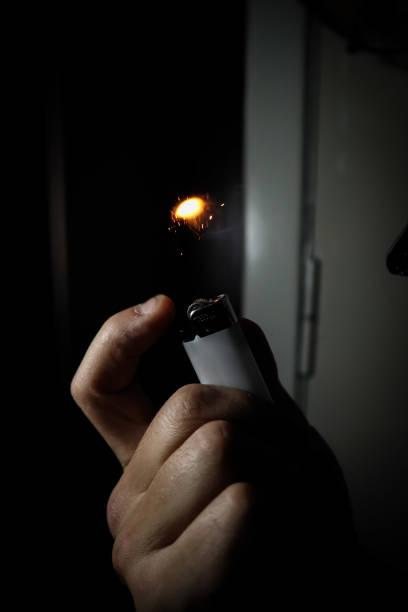Fire: (170, 187, 211, 225)
